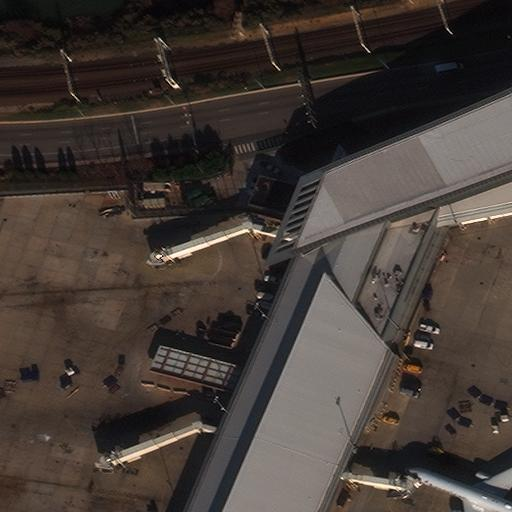Large Civil Transport: (403, 452, 511, 512)
